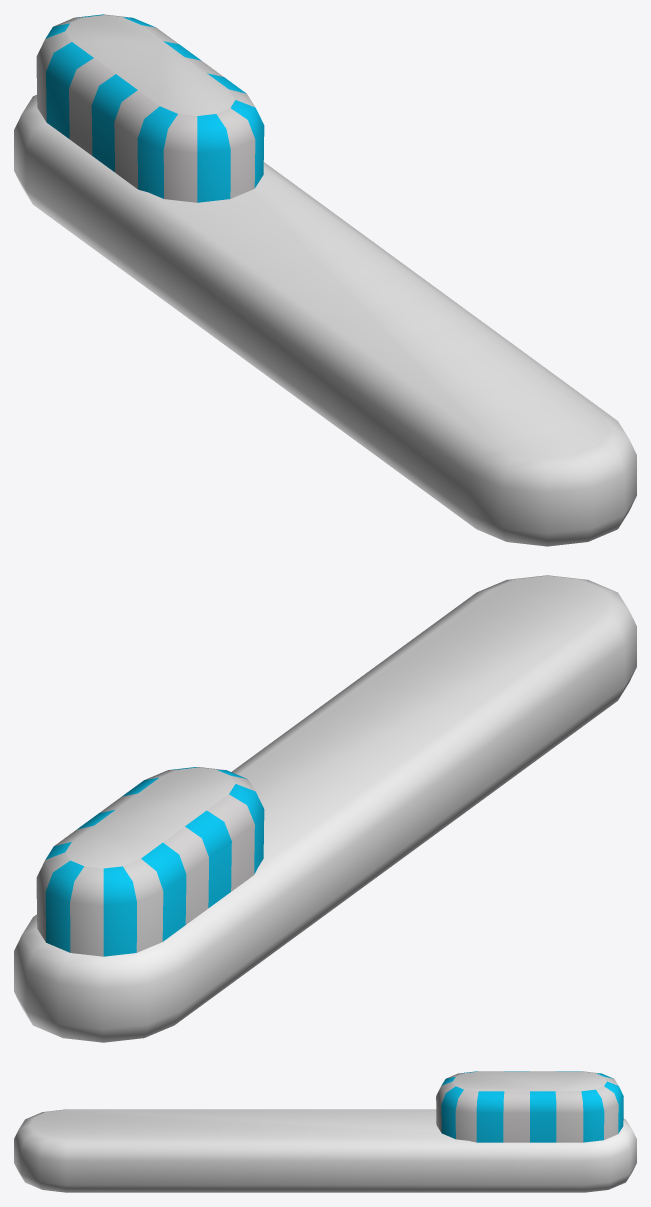
The model's file is Toothbrush_001.fbx.
3 renders of one model, top to bottom at view 1: azimuth 30°, elevation 25°; view 2: azimuth 150°, elevation 25°; view 3: azimuth 270°, elevation 25°, orthographic. The views are drawn at different scales.
Visible parts, largest first — view 1: Toothbrush_001; view 2: Toothbrush_001; view 3: Toothbrush_001.
Boxes of the visible parts, x1=… form: Toothbrush_001: x1=14, y1=14, x2=636, y2=546; Toothbrush_001: x1=14, y1=575, x2=636, y2=1042; Toothbrush_001: x1=14, y1=1071, x2=636, y2=1192.
Bounding box in the file's own units: 3.05 × 18.2 × 3.07.
